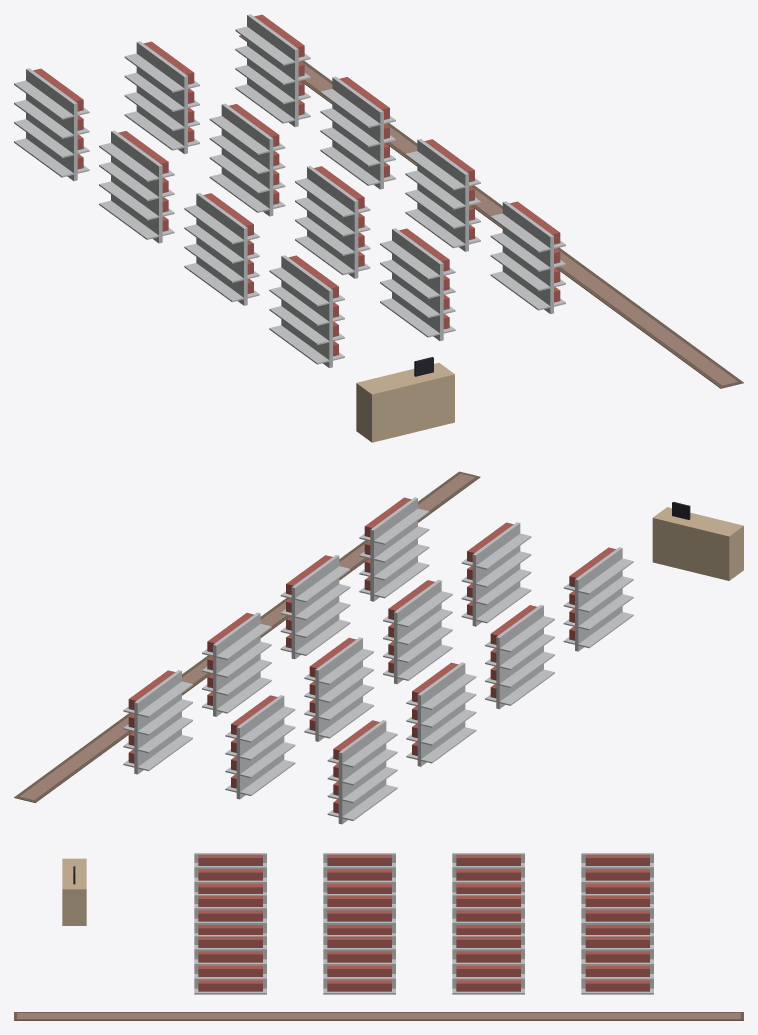
File: fine-s0.glb
3 views of the same model, one above another, from view 1: azimuth 30°, elevation 25°; view 2: azimuth 150°, elevation 25°; view 3: azimuth 270°, elevation 25° (orthographic). The views are drawn at different scales.
Visible parts, largest first — view 1: shop-counter.000, soft-s0, shelf.005, shelf.011, shelf.004, shelf.006, shelf.000, shelf.007, shelf.008, shelf.001, shelf.002, shelf.009 (+2 smaller); view 2: shop-counter.000, soft-s0, shelf.004, shelf.011, shelf.000, shelf.001, shelf.007, shelf.010, shelf.003, shelf.005, shelf.008, shelf.002 (+2 smaller); view 3: soft-s0, shelf.008, shelf.009, shelf.010, shelf.011, shelf.000, shelf.001, shelf.002, shelf.003, shelf.004, shelf.005, shelf.006 (+2 smaller).
Part boxes in pixels (x1,y1,x2,y2): shop-counter.000: [356, 357, 454, 442]; soft-s0: [239, 35, 743, 388]; shelf.005: [209, 103, 285, 216]; shelf.011: [490, 201, 565, 314]; shelf.004: [124, 41, 199, 154]; shelf.006: [295, 166, 370, 278]; shelf.000: [14, 68, 89, 180]; shelf.007: [380, 228, 455, 340]; shelf.008: [235, 14, 310, 127]; shelf.001: [99, 130, 174, 243]; shelf.002: [184, 193, 259, 305]; shelf.009: [320, 76, 395, 189]; shop-counter.000: [652, 502, 743, 580]; soft-s0: [14, 471, 480, 802]; shelf.004: [225, 695, 295, 799]; shelf.011: [359, 497, 429, 601]; shelf.000: [327, 720, 397, 824]; shelf.001: [406, 662, 476, 766]; shelf.007: [461, 522, 531, 626]; shelf.010: [280, 555, 350, 659]; shelf.003: [563, 547, 633, 651]; shelf.005: [304, 637, 373, 741]; shelf.008: [123, 670, 192, 774]; shelf.002: [485, 604, 554, 709]; soft-s0: [14, 1012, 743, 1020]; shelf.008: [581, 935, 653, 994]; shelf.009: [452, 935, 524, 994]; shelf.010: [323, 935, 395, 994]; shelf.011: [194, 935, 266, 994]; shelf.000: [581, 853, 653, 893]; shelf.001: [452, 853, 524, 893]; shelf.002: [323, 853, 395, 893]; shelf.003: [194, 853, 266, 893]; shelf.004: [581, 894, 653, 934]; shelf.005: [452, 894, 524, 934]; shelf.006: [323, 894, 395, 934].
Bounding box in the file's own units: 7.38 × 1.6 × 18.1.
